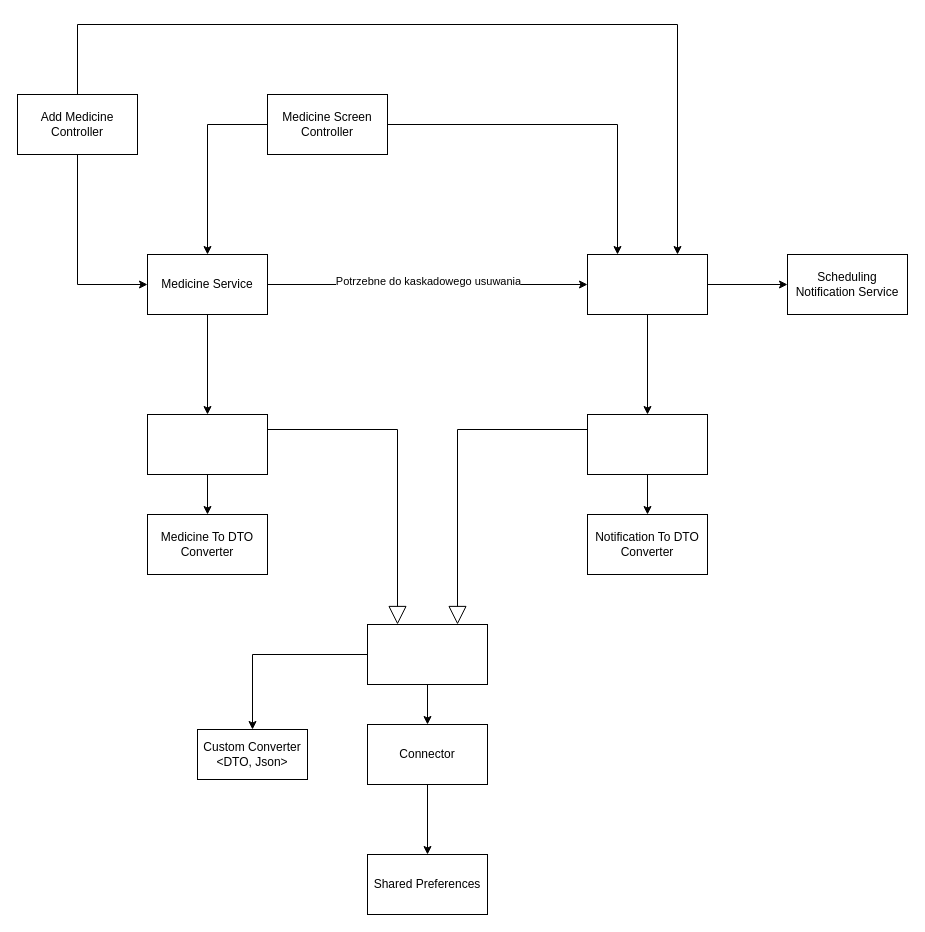
The diagram is 925 pixels wide and 932 high, and some of its shapes have lost their labels. Here are the shapes that lost their labels. From the top down, the box of each, then its label:
(586, 254, 708, 314): Notification Service
(146, 414, 268, 474): Medicine Repository
(586, 414, 708, 474): Notification Repository
(366, 624, 488, 684): Shared Preferences Crud Repository
